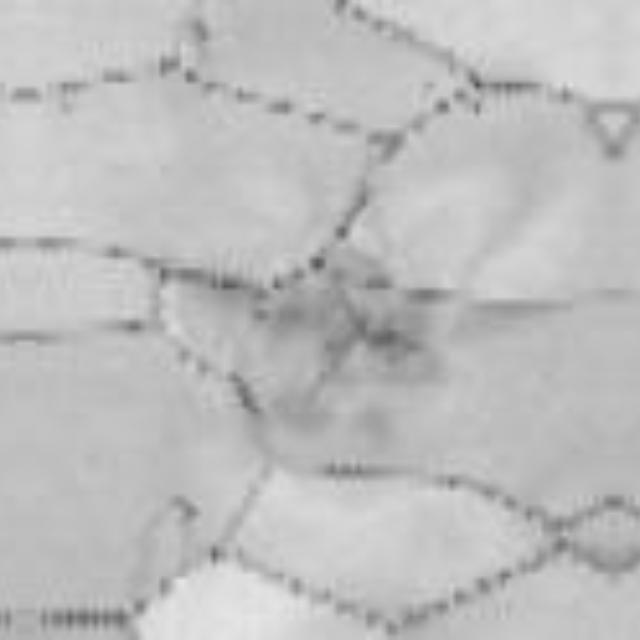good_void: (260, 274, 429, 373)
